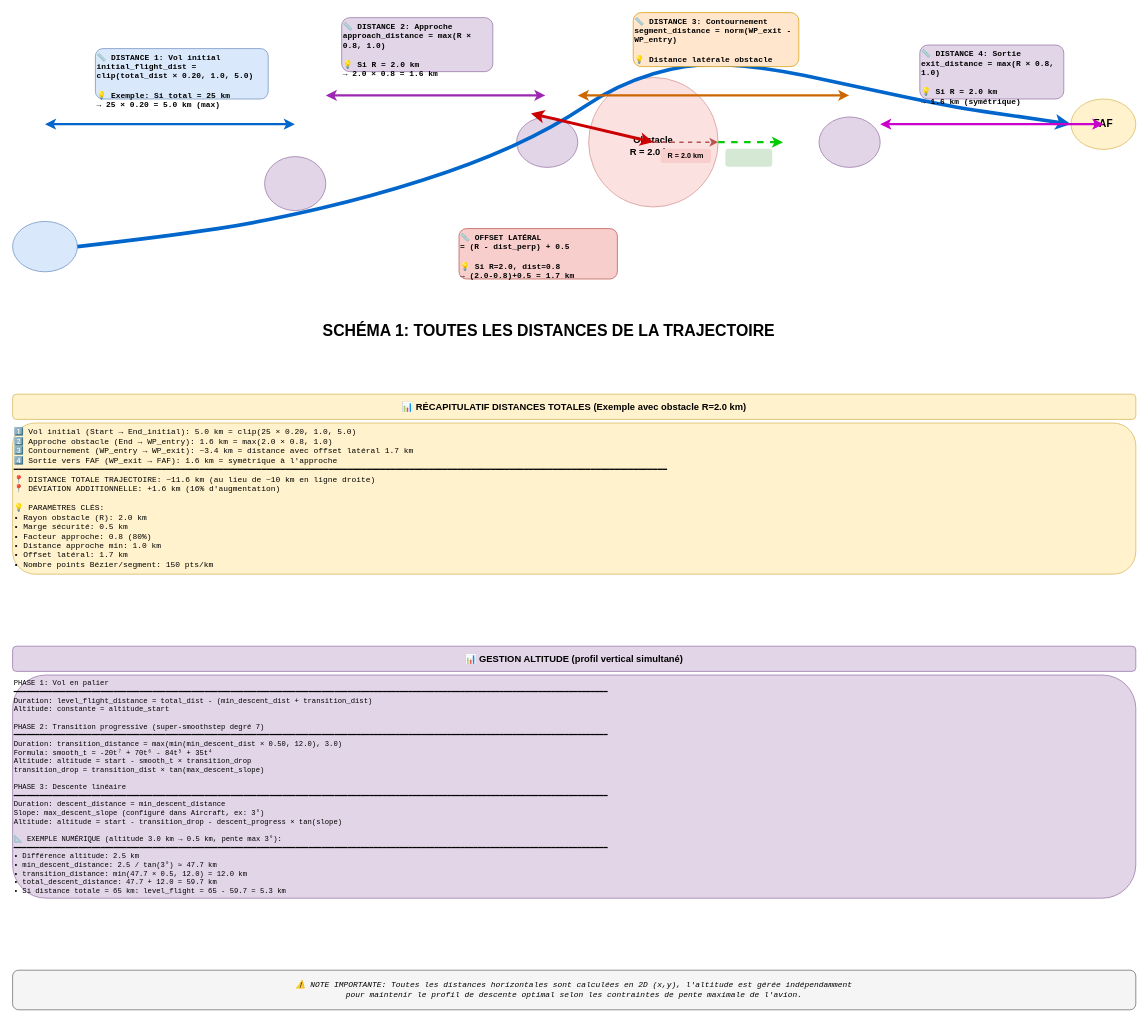
The diagram is 1148 pixels wide and 1022 high, and some of its shapes have lost their labels. The shapes that lost their labels are listed below. From the top down, each one's centre as x and y in pixels, then its label:
At point (547, 141): "WP Entry".
At point (748, 157): "Marge 0.5 km".
At point (849, 141): "WP Exit".
At point (295, 183): "End Initial".
At point (44, 246): "Start".
